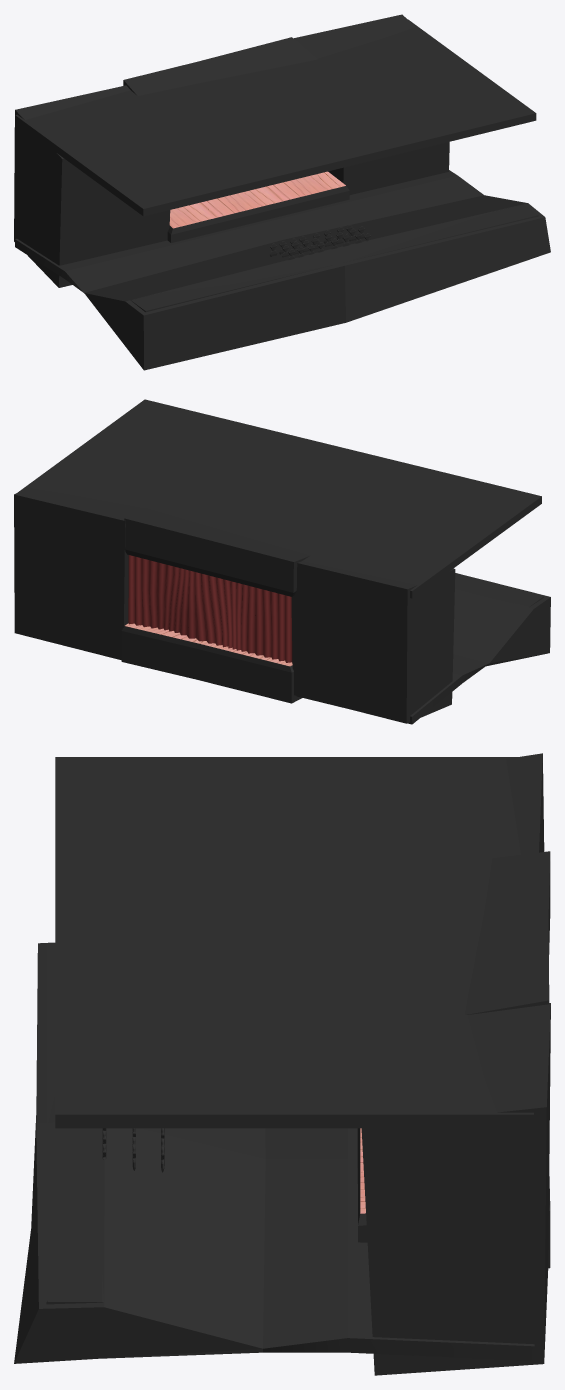
Rendered from scene_stage.fbx.
The picture shows the model from 3 angles, top to bottom: view 1: azimuth 30°, elevation 25°; view 2: azimuth 150°, elevation 25°; view 3: azimuth 270°, elevation 25°; orthographic projection. The views are drawn at different scales.
Parts seen in each view (by area): view 1: sm_floorTheater, sm_roof, sm_theatherWalls, sm_stagefloor, sm_stage_roof, sm_crowd; view 2: sm_roof, sm_theatherWalls, sm_curtains, sm_stage_roof, sm_floorTheater, sm_stagefloor; view 3: sm_roof, sm_floorTheater, sm_theatherWalls, sm_stage_roof, sm_stagefloor.
Boxes of the visible parts, left/top/right/bottom form: sm_floorTheater: left=15, top=170, right=550, bottom=370; sm_roof: left=15, top=19, right=536, bottom=216; sm_theatherWalls: left=14, top=14, right=449, bottom=287; sm_stagefloor: left=167, top=171, right=349, bottom=242; sm_stage_roof: left=123, top=37, right=316, bottom=95; sm_crowd: left=269, top=224, right=370, bottom=260; sm_roof: left=18, top=399, right=541, bottom=598; sm_theatherWalls: left=14, top=487, right=455, bottom=723; sm_curtains: left=128, top=555, right=292, bottom=662; sm_stage_roof: left=124, top=507, right=310, bottom=596; sm_floorTheater: left=296, top=573, right=550, bottom=724; sm_stagefloor: left=121, top=623, right=302, bottom=703; sm_roof: left=55, top=757, right=533, bottom=1128; sm_floorTheater: left=14, top=942, right=534, bottom=1363; sm_theatherWalls: left=361, top=753, right=550, bottom=1375; sm_stage_roof: left=465, top=851, right=550, bottom=1014; sm_stagefloor: left=357, top=1128, right=550, bottom=1268.
Size of the model in its own units: 40.87 by 15.88 by 25.28.
Materials: 3 (1 with a texture image).
